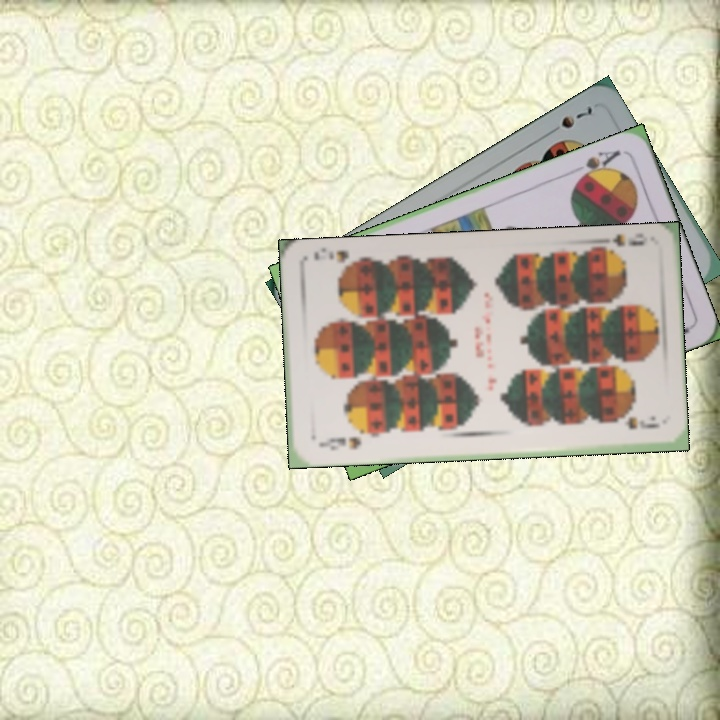S7: (543, 103, 595, 139)
S9: (594, 231, 647, 259), (315, 433, 363, 454)
SA: (573, 146, 624, 185)
